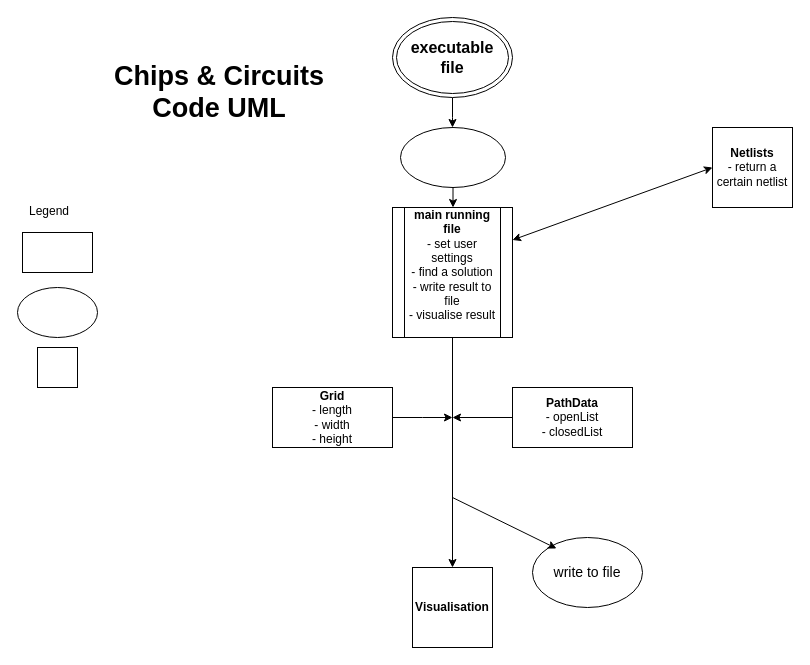
This 810x665 diagram has some shape labels left out. The centre of each missing label's shape, as x and y in pixels:
"action" goes at point 57,312.
"class" goes at point 57,252.
"helper class" goes at point 57,367.
"user input print, netlist, iterations, methods" goes at point 453,157.
